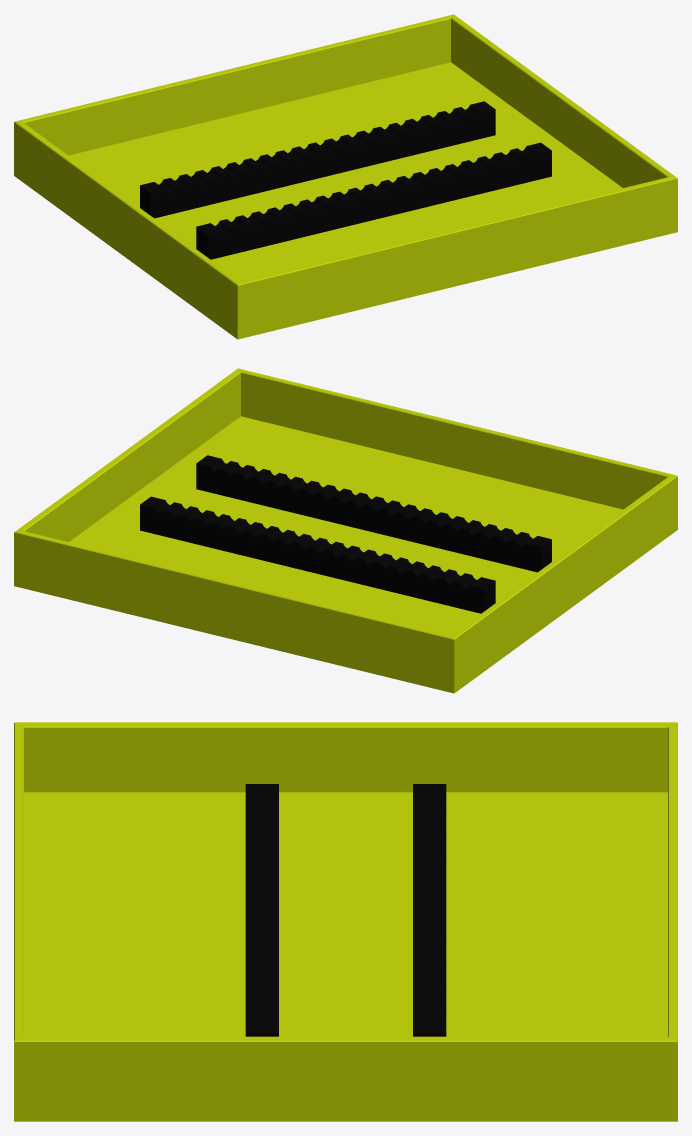
Rendered from SM_StickBoard.fbx.
3 renders of one model, top to bottom at view 1: azimuth 30°, elevation 25°; view 2: azimuth 150°, elevation 25°; view 3: azimuth 270°, elevation 25°, orthographic. The views are drawn at different scales.
Visible parts, largest first — view 1: pCube30; view 2: pCube30; view 3: pCube30.
Boxes of the visible parts, bbox=[...] form: pCube30: bbox=[14, 14, 677, 339]; pCube30: bbox=[14, 368, 677, 693]; pCube30: bbox=[14, 722, 677, 1121].
Size of the model in its own units: 92.82 by 11.85 by 81.68.
